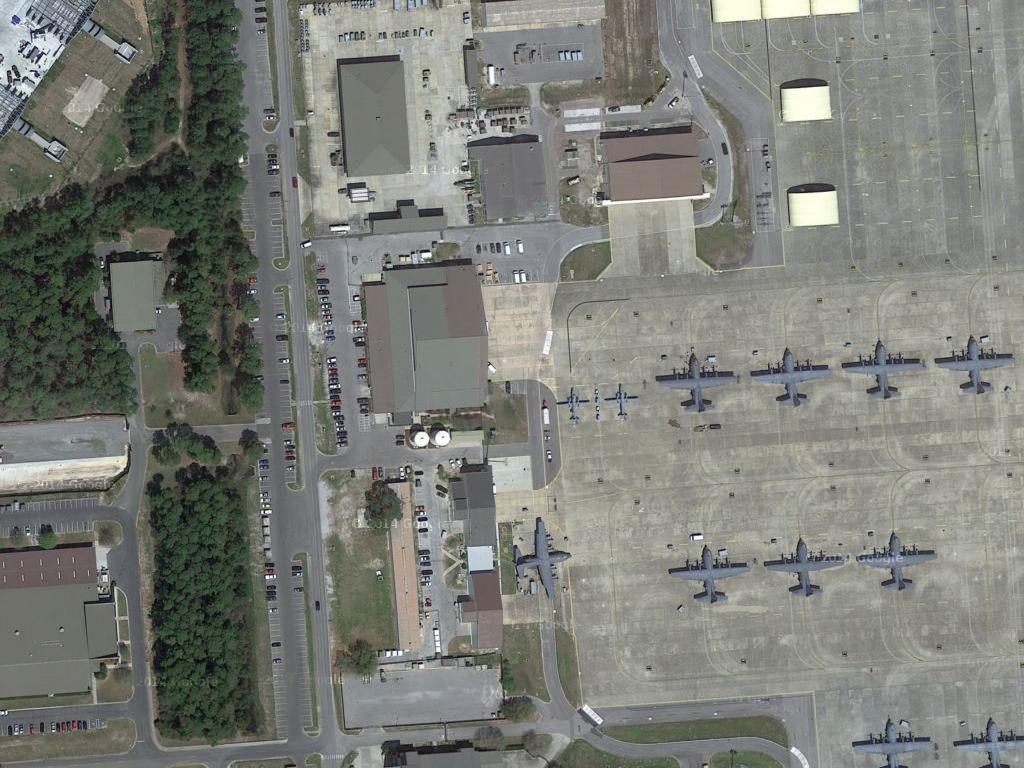C-130: (652, 352, 742, 417), (665, 542, 756, 606), (761, 538, 849, 603), (747, 349, 837, 410), (839, 340, 926, 401), (510, 516, 573, 599), (856, 533, 939, 594), (934, 334, 1018, 394), (851, 719, 936, 768), (951, 714, 1024, 768)
